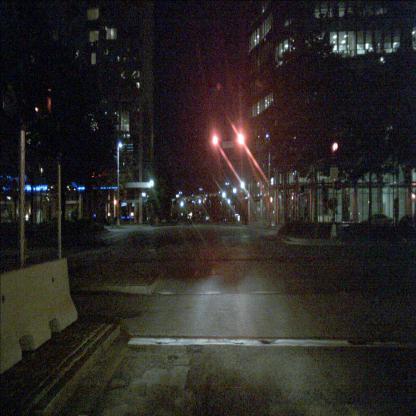barrier: (0, 258, 78, 375)
